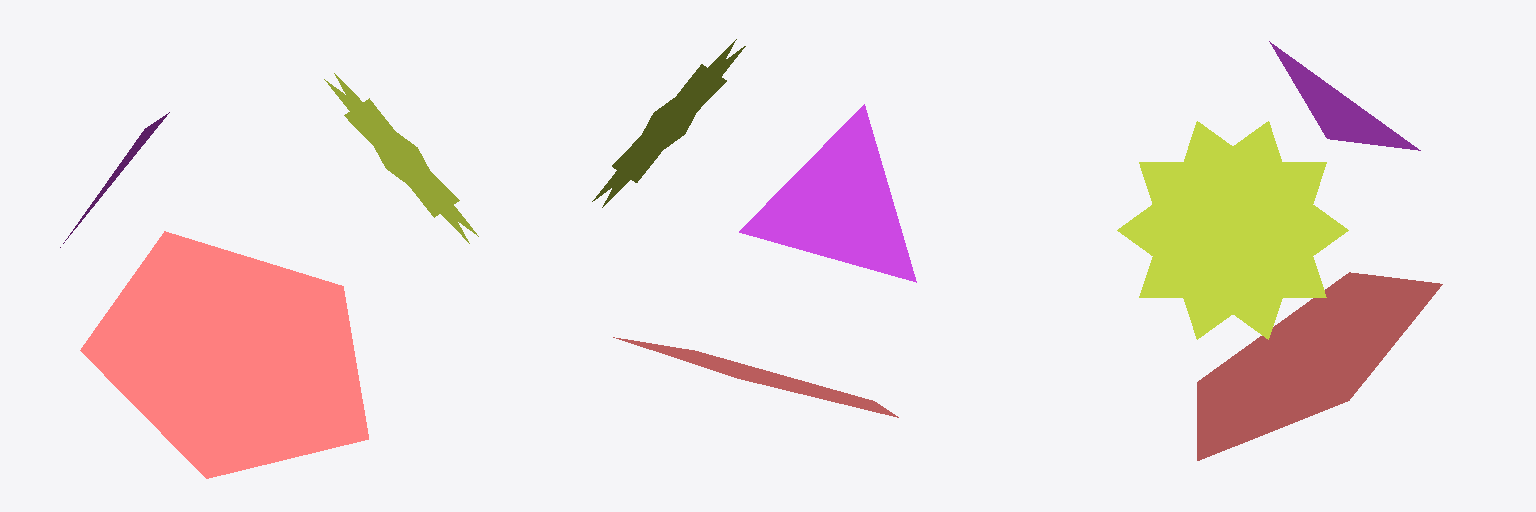
File: GreatDitrigonalDodecicosidodecahedronF.obj
The picture shows the model from 3 angles: view 1: azimuth 30°, elevation 25°; view 2: azimuth 150°, elevation 25°; view 3: azimuth 270°, elevation 25°; orthographic projection.
Size of the model in its own units: 2.12 by 2 by 1.74.